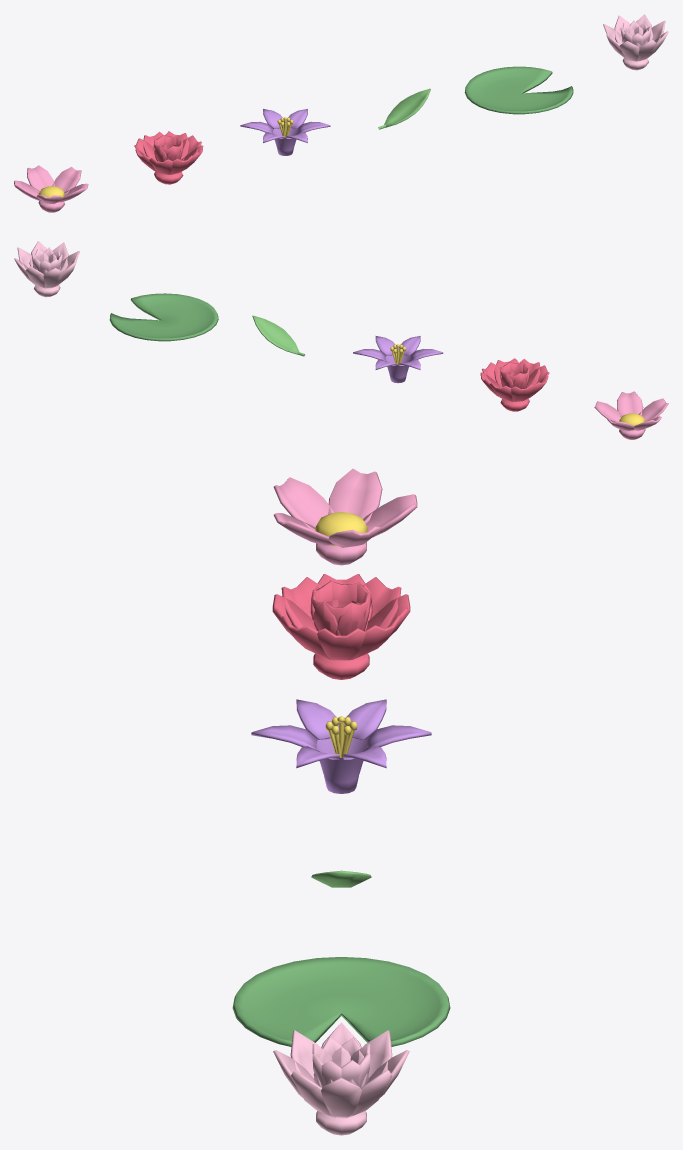
Rendered from flowers.fbx.
3 renders of one model, top to bottom at view 1: azimuth 30°, elevation 25°; view 2: azimuth 150°, elevation 25°; view 3: azimuth 270°, elevation 25°, orthographic. The views are drawn at different scales.
Parts seen in each view (by area): view 1: LilyPad, Flower_B_Petals, Lotus_Petals, Flower_A_Petals, Flower_C_Petals, Leaf; view 2: LilyPad, Flower_B_Petals, Lotus_Petals, Flower_A_Petals, Flower_C_Petals, Leaf; view 3: LilyPad, Flower_B_Petals, Lotus_Petals, Flower_A_Petals, Flower_C_Petals.
Boxes of the visible parts, <box> form: LilyPad: <box>464,66,573,114</box>; Flower_B_Petals: <box>134,131,203,184</box>; Lotus_Petals: <box>603,14,668,70</box>; Flower_A_Petals: <box>14,165,88,212</box>; Flower_C_Petals: <box>240,109,330,155</box>; Leaf: <box>378,88,430,129</box>; LilyPad: <box>109,293,218,341</box>; Flower_B_Petals: <box>480,358,549,411</box>; Lotus_Petals: <box>14,241,79,297</box>; Flower_A_Petals: <box>594,391,668,439</box>; Flower_C_Petals: <box>353,336,443,383</box>; Leaf: <box>252,315,304,356</box>; LilyPad: <box>232,957,450,1046</box>; Flower_B_Petals: <box>272,574,410,679</box>; Lotus_Petals: <box>273,1022,409,1135</box>; Flower_A_Petals: <box>273,468,417,565</box>; Flower_C_Petals: <box>251,699,431,793</box>.
Size of the model in its own units: 11.06 by 0.6704 by 1.62.
